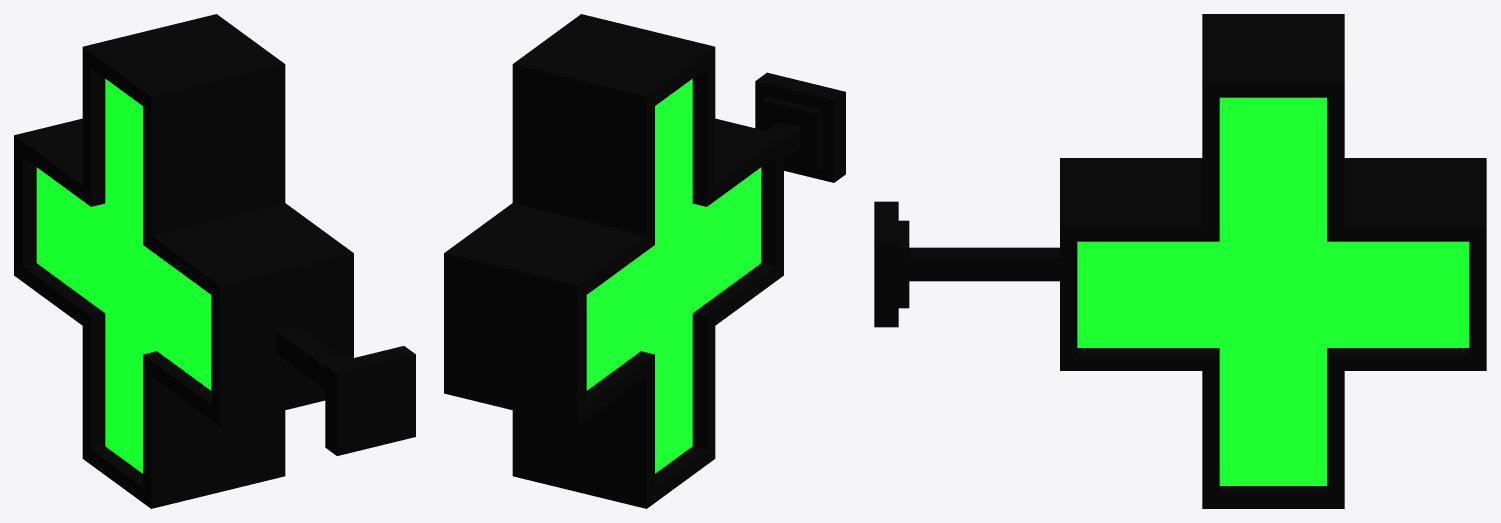
The model's file is pharmacysign.fbx.
3 renders of one model, left to right at view 1: azimuth 30°, elevation 25°; view 2: azimuth 150°, elevation 25°; view 3: azimuth 270°, elevation 25°, orthographic. The views are drawn at different scales.
Visible parts, largest first — view 1: Cube; view 2: Cube; view 3: Cube.
Boxes of the visible parts, <box> form: Cube: <box>14,14,415,508</box>; Cube: <box>444,14,845,508</box>; Cube: <box>874,14,1486,508</box>.
Bounding box in the file's own units: 340 × 998 × 1297.
